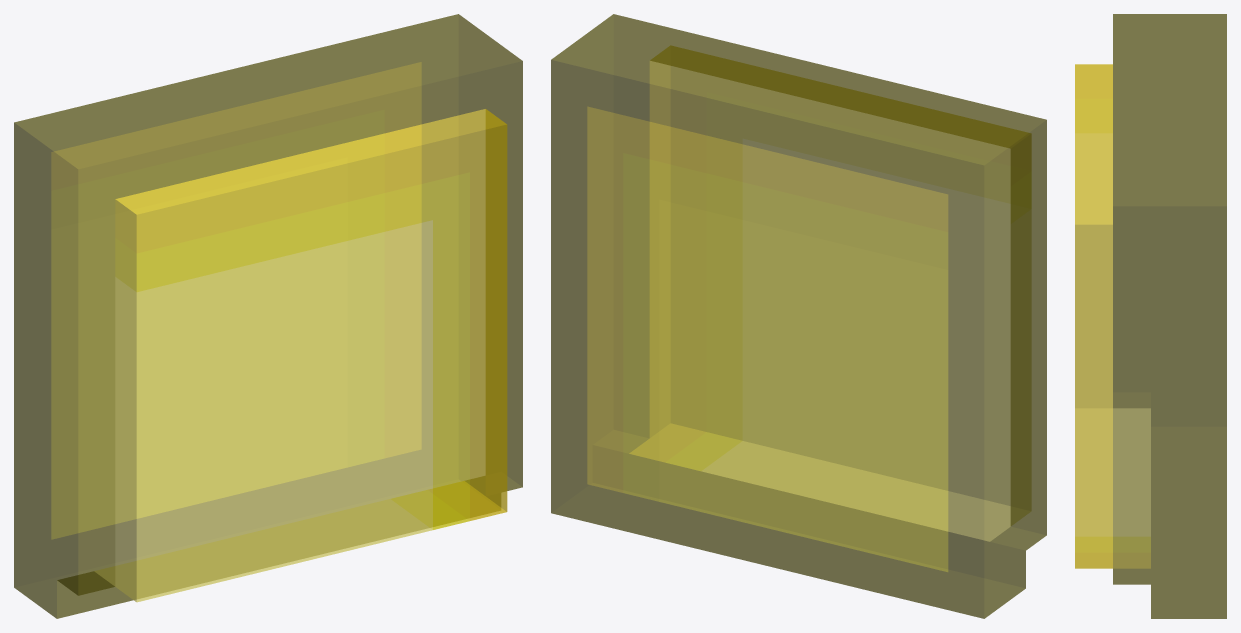
File: screen_yellow.glb
3 views of the same model, side by side, from view 1: azimuth 30°, elevation 25°; view 2: azimuth 150°, elevation 25°; view 3: azimuth 270°, elevation 25° (orthographic). The views are drawn at different scales.
Visible parts, largest first — view 1: bb0 screen; view 2: bb0 screen; view 3: bb0 screen.
Boxes of the visible parts, left/top/right/bottom form: bb0 screen: left=14, top=14, right=522, bottom=618; bb0 screen: left=551, top=14, right=1046, bottom=618; bb0 screen: left=1075, top=14, right=1226, bottom=618.
Size of the model in its own units: 12 by 12 by 4.
